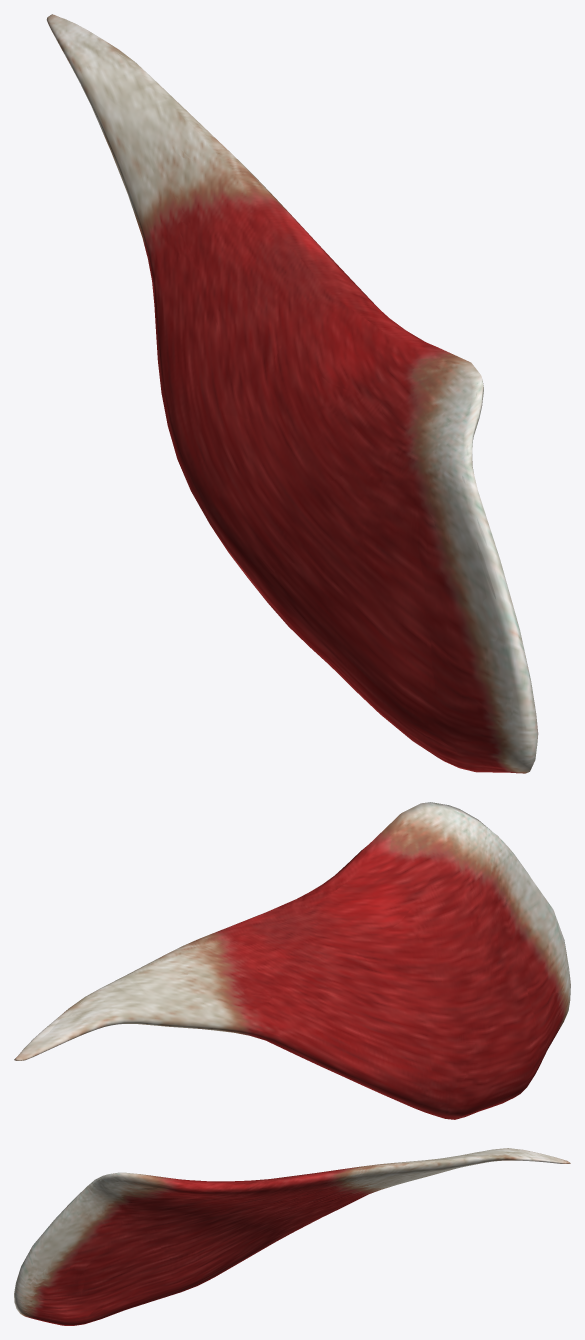
File: R Latissimus Dorsi.fbx
3 views of the same model, one above another, from view 1: azimuth 30°, elevation 25°; view 2: azimuth 150°, elevation 25°; view 3: azimuth 270°, elevation 25° (orthographic). The views are drawn at different scales.
Visible parts, largest first — view 1: R Latissimus Dorsi, R Latissimus Dorsi low, R Latissimus Dorsi high; view 2: R Latissimus Dorsi, R Latissimus Dorsi low, R Latissimus Dorsi high; view 3: R Latissimus Dorsi, R Latissimus Dorsi high, R Latissimus Dorsi low.
Boxes of the visible parts, x1=… form: R Latissimus Dorsi: x1=46, y1=14, x2=538, y2=773; R Latissimus Dorsi low: x1=47, y1=15, x2=538, y2=772; R Latissimus Dorsi high: x1=50, y1=16, x2=536, y2=771; R Latissimus Dorsi: x1=14, y1=802, x2=570, y2=1119; R Latissimus Dorsi low: x1=16, y1=802, x2=570, y2=1119; R Latissimus Dorsi high: x1=21, y1=806, x2=570, y2=1117; R Latissimus Dorsi: x1=14, y1=1148, x2=570, y2=1325; R Latissimus Dorsi high: x1=15, y1=1149, x2=565, y2=1319; R Latissimus Dorsi low: x1=15, y1=1149, x2=568, y2=1325.
Bounding box in the file's own units: 4.07 × 9.19 × 24.26.
Materials: 1 (1 with a texture image).
